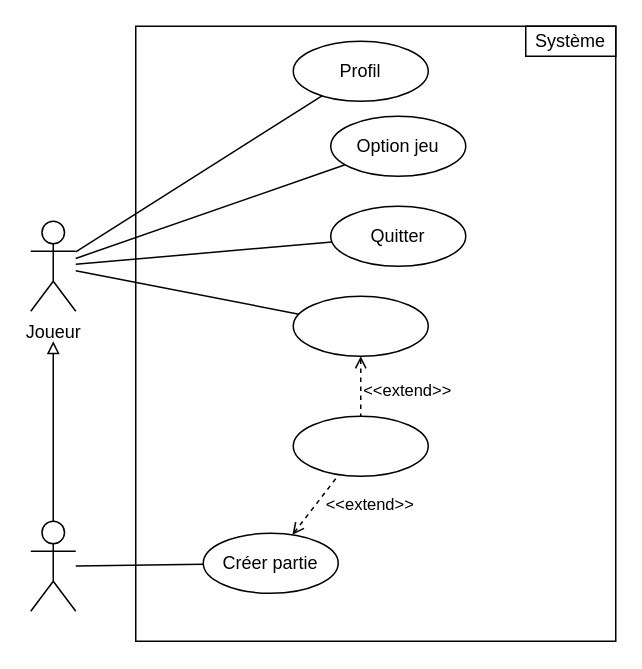
Some shapes in this 642 by 669 pixel diagram are drawn without their labels. The shapes that lost their labels are listed below. From the top down, each one's centre as x and y in pixels, then its label:
(x=360, y=325): Rejoindre partie
(x=360, y=445): Jouer partie
(x=52, y=565): Hôte
